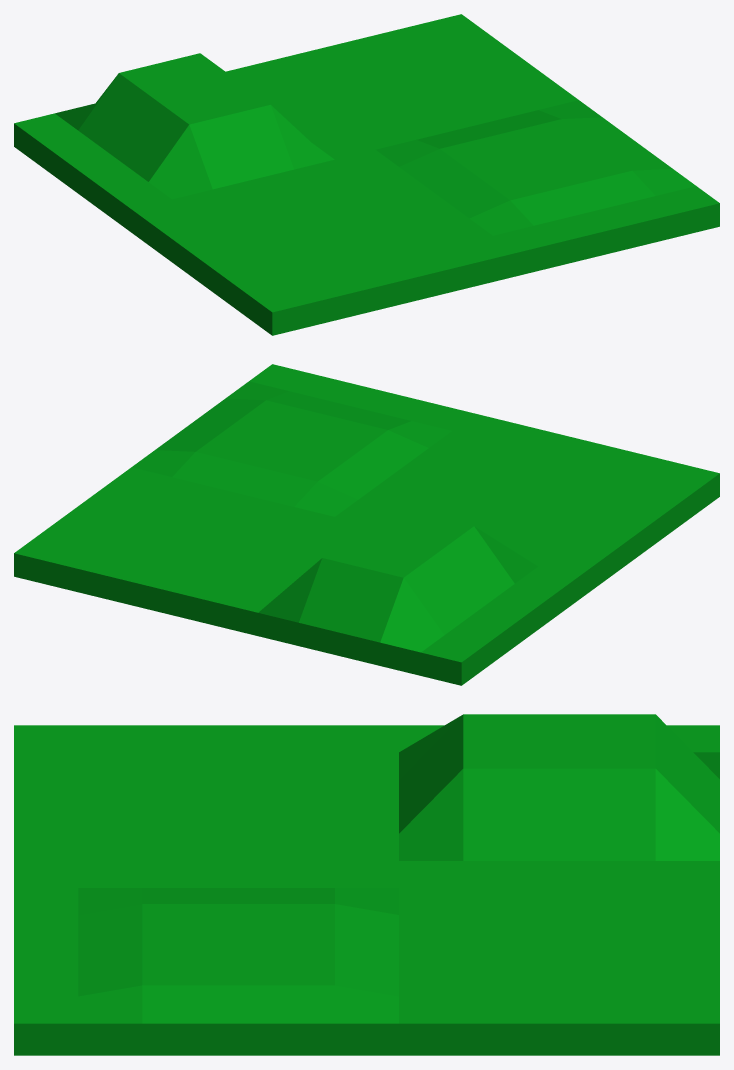
3 views of the same model, one above another, from view 1: azimuth 30°, elevation 25°; view 2: azimuth 150°, elevation 25°; view 3: azimuth 270°, elevation 25° (orthographic). The views are drawn at different scales.
Visible parts, largest first — view 1: Cube; view 2: Cube; view 3: Cube.
Boxes of the visible parts, bbox=[...] form: Cube: bbox=[14, 14, 719, 335]; Cube: bbox=[14, 364, 719, 685]; Cube: bbox=[14, 714, 719, 1055].
Size of the model in its own units: 40 by 6.07 by 40.
